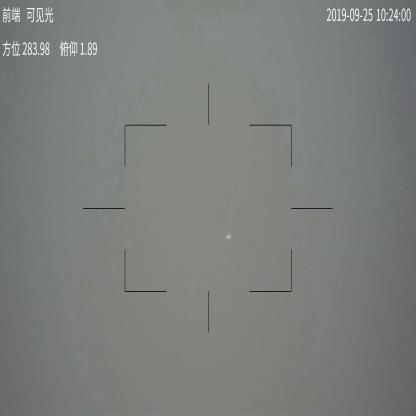uav: (225, 231, 233, 242)
